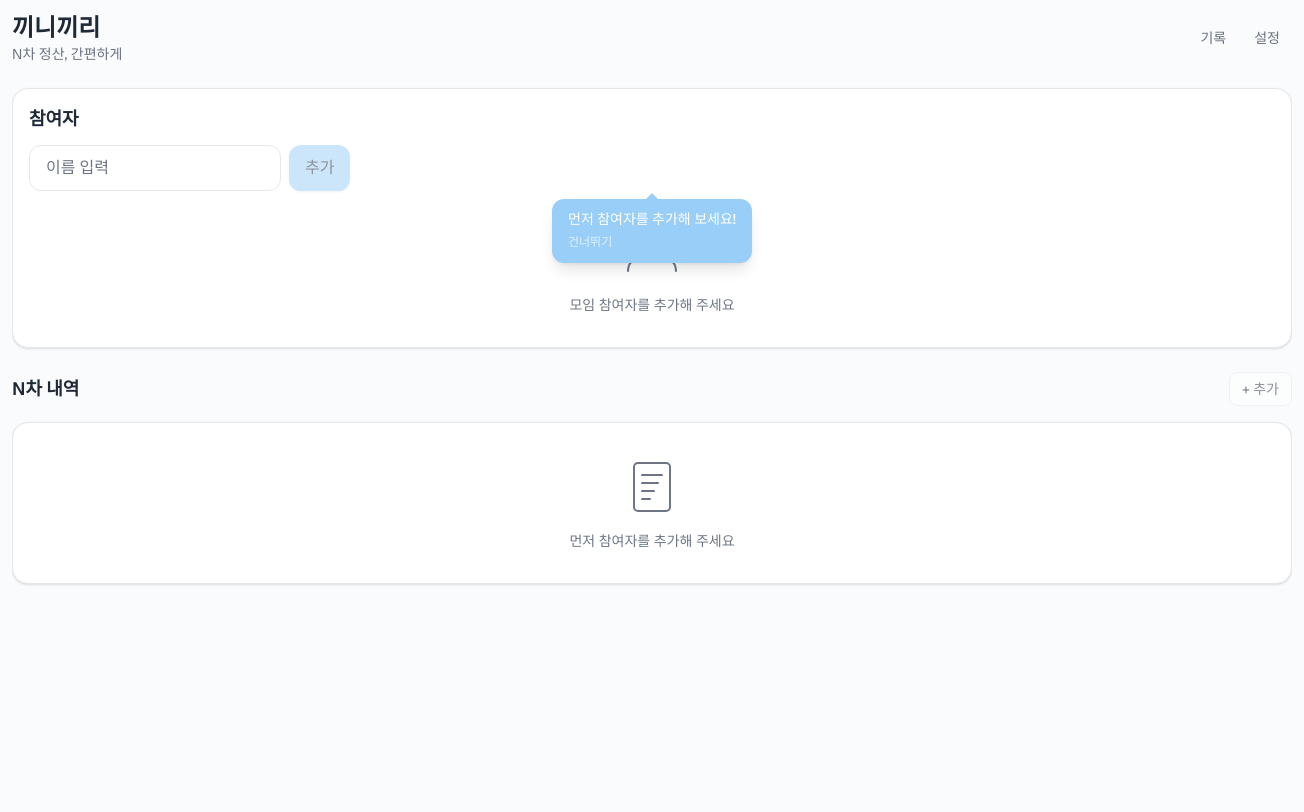
Test: MainPage - 온보딩 통합 › 건너뛰기 클릭 시 tooltip 사라짐
The width and height of the screenshot is (1304, 812).
Expected: the tooltip "먼저 참여자를 추가해 보세요! 건너뛰기" is shown, [552,199,752,263]
Click the button "건너뛰기": [590, 242] box [568,234,612,250]
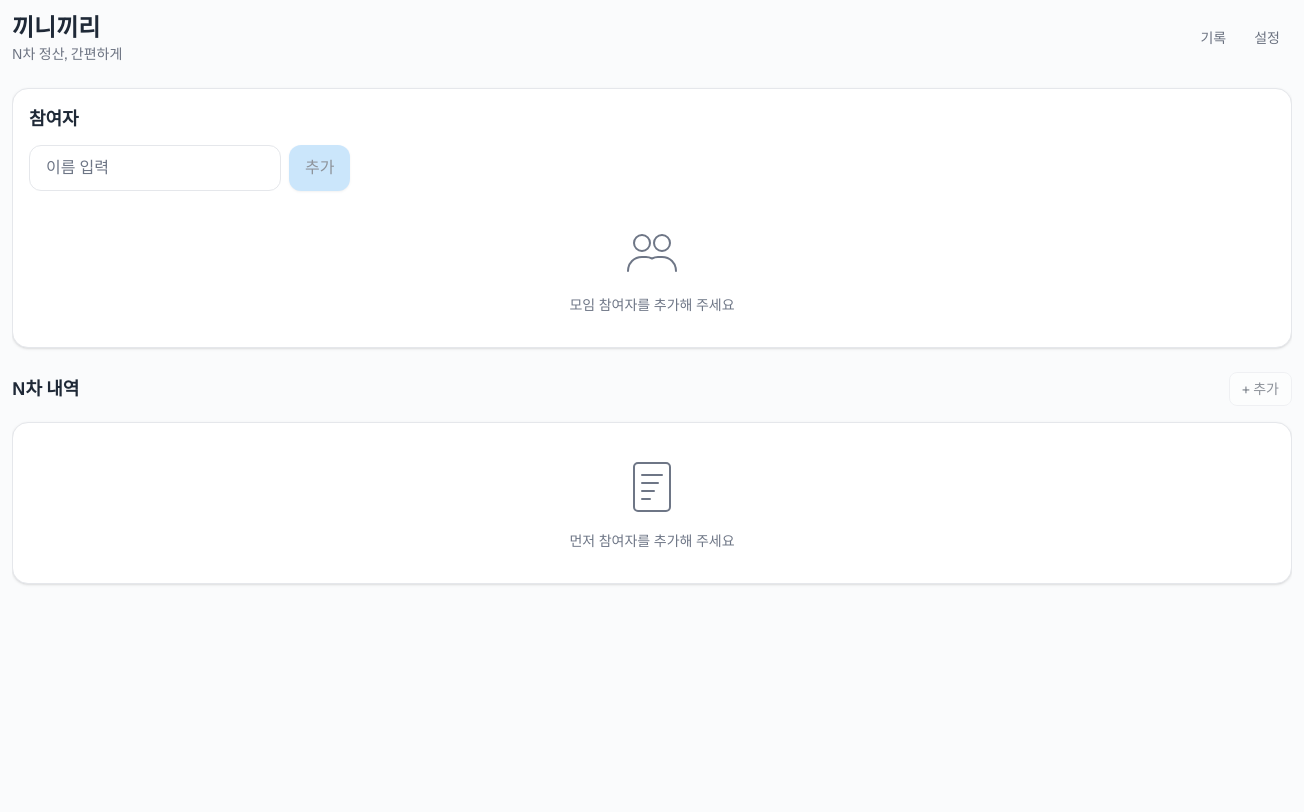
Expected: the tooltip "먼저 참여자를 추가해 보세요! 건너뛰기" is gone
